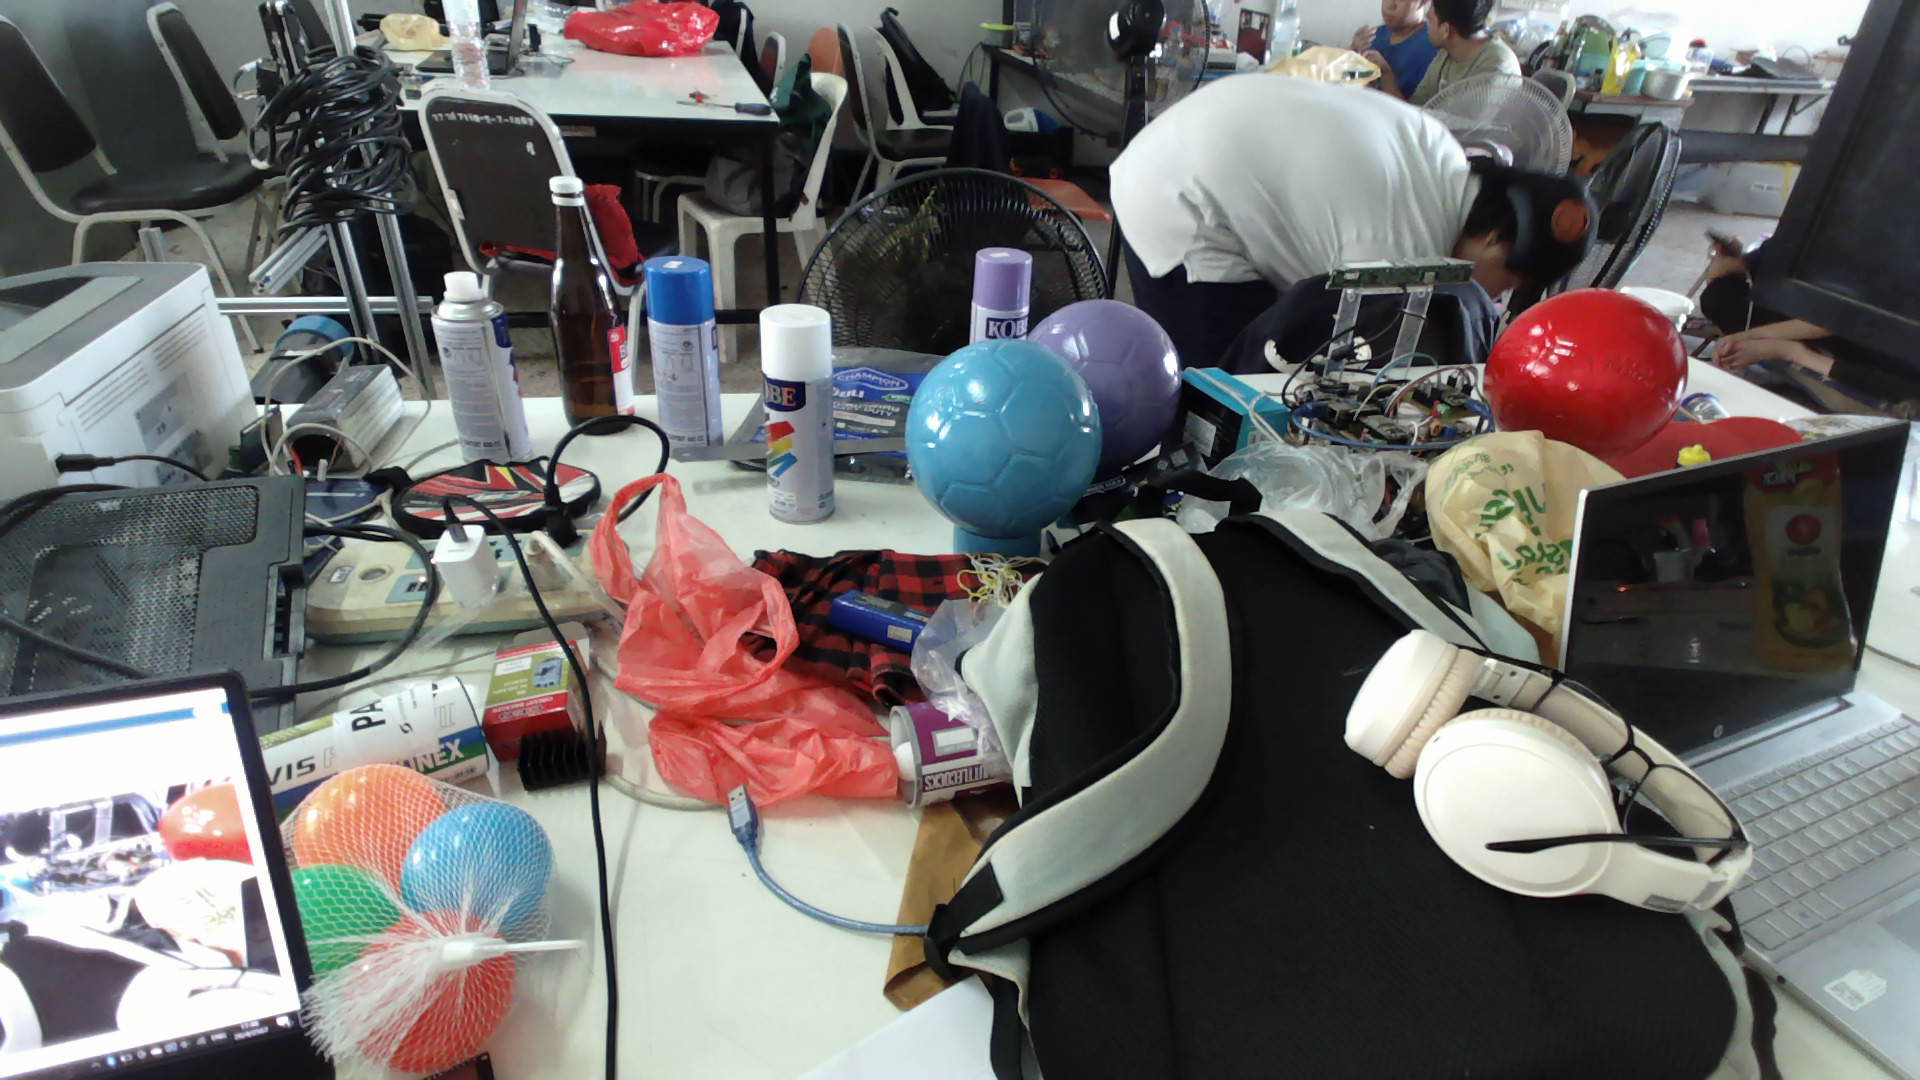Blue ball: (902, 336, 1106, 539)
Purple ball: (1022, 295, 1183, 429)
Red ball: (1482, 287, 1691, 458)
